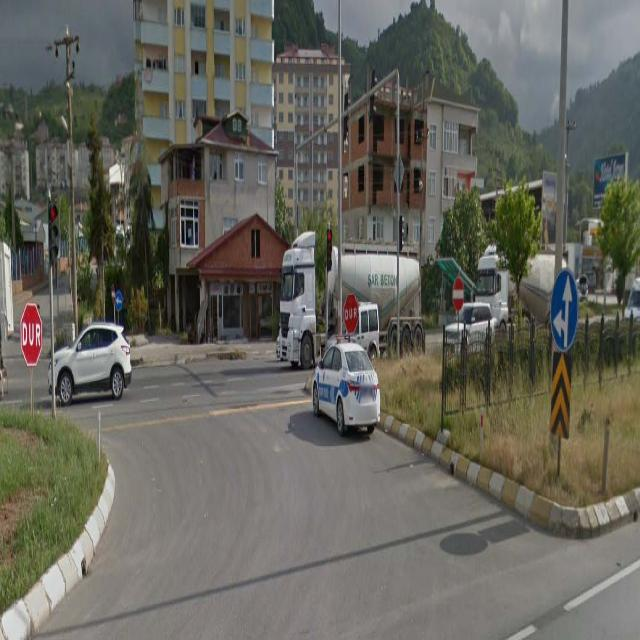dur: (19, 304, 42, 369), (343, 293, 358, 339)
girisyok: (453, 276, 464, 312)
ilerisol: (551, 273, 577, 352)
kirmizi: (49, 204, 59, 262)
